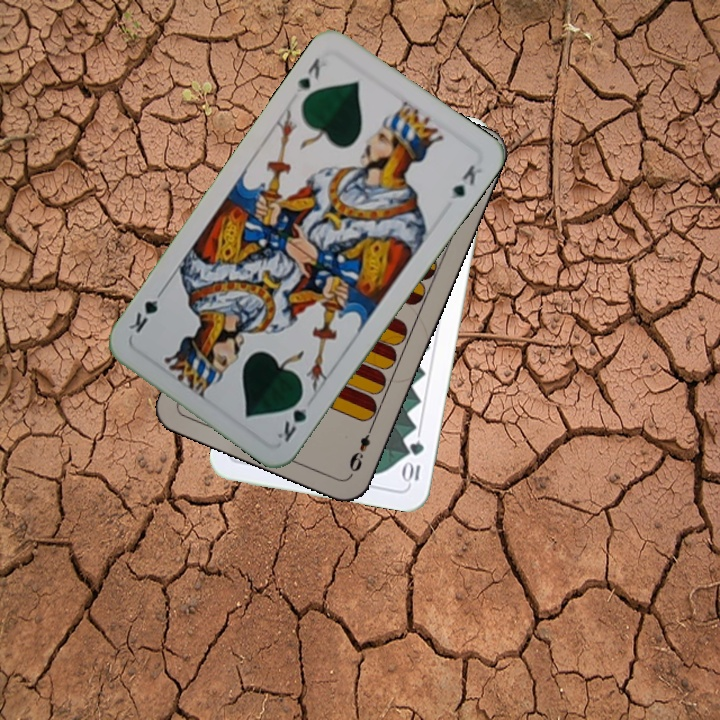E9: (345, 421, 376, 478)
G10: (400, 437, 427, 486)
GK: (273, 390, 310, 445), (292, 54, 323, 97)
